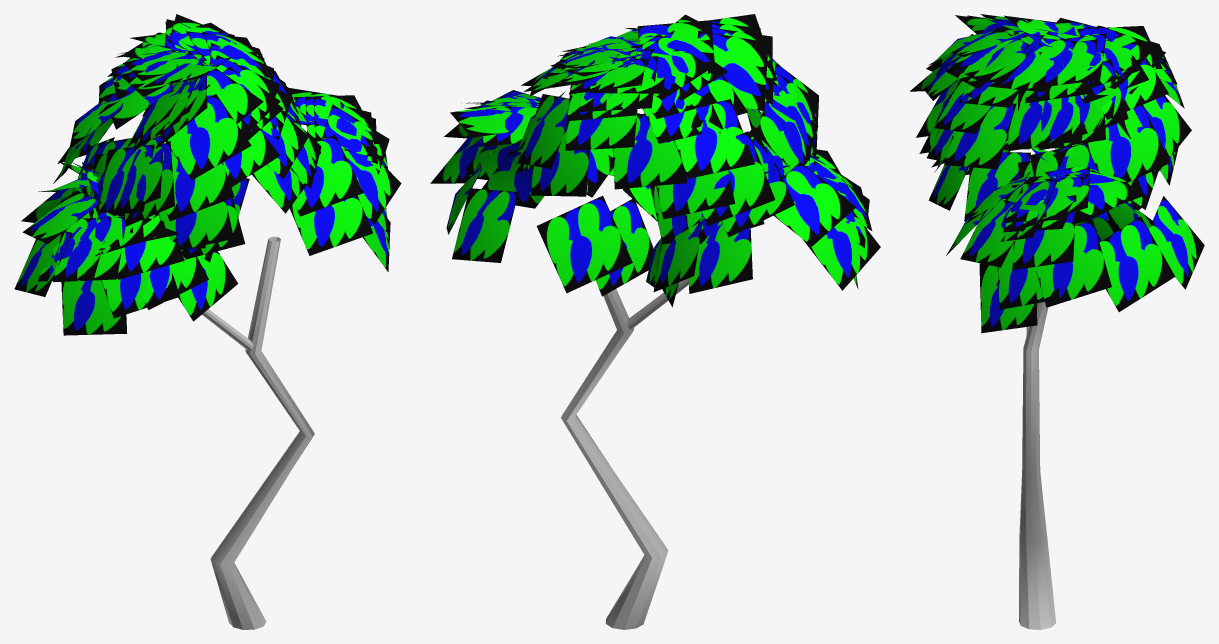
Rendered from Arbol_0002.fbx.
3 renders of one model, left to right at view 1: azimuth 30°, elevation 25°; view 2: azimuth 150°, elevation 25°; view 3: azimuth 270°, elevation 25°, orthographic. The views are drawn at different scales.
Visible parts, largest first — view 1: Arbol_0002; view 2: Arbol_0002; view 3: Arbol_0002.
Boxes of the visible parts, x1=… form: Arbol_0002: x1=14, y1=14, x2=401, y2=629; Arbol_0002: x1=430, y1=14, x2=880, y2=629; Arbol_0002: x1=910, y1=14, x2=1204, y2=629.
Size of the model in its own units: 0.7717 by 1.12 by 0.523.
